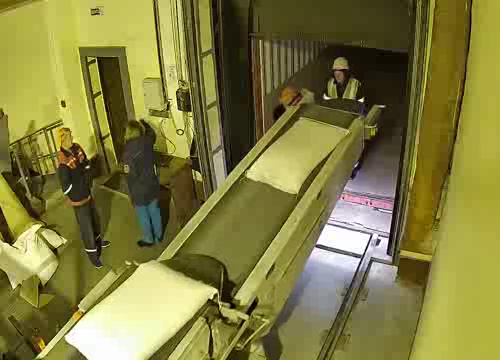bag: (63, 259, 219, 360), (244, 116, 351, 196)
